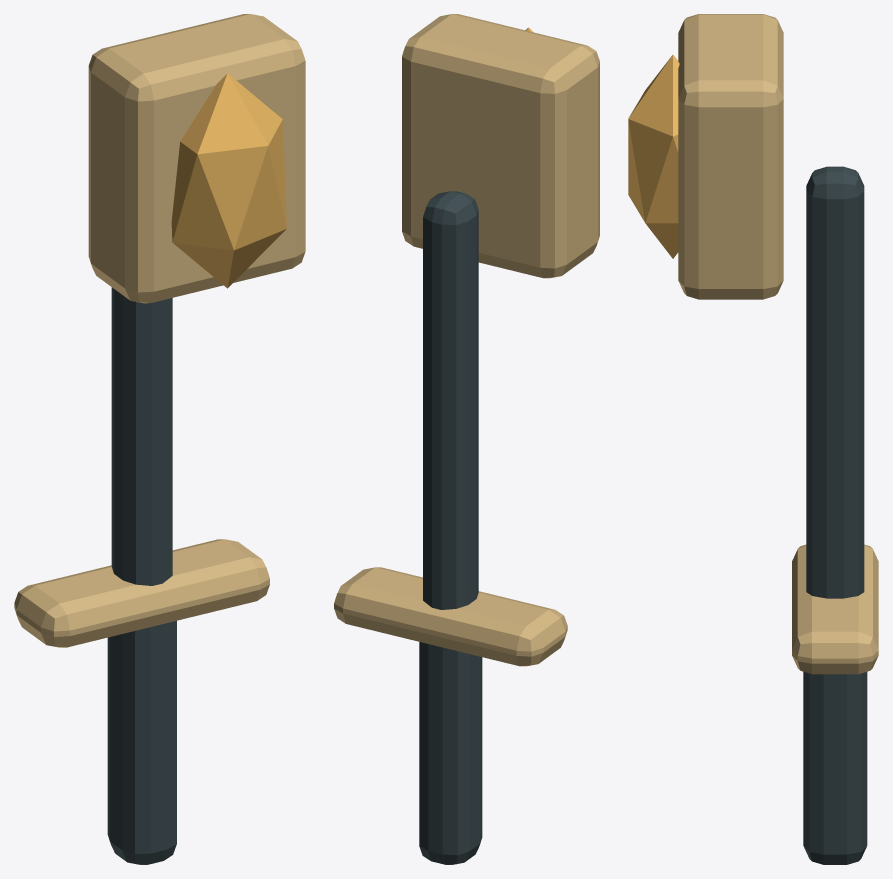
The model's file is arm_mercy_weapon.glb.
The picture shows the model from 3 angles, left to right: view 1: azimuth 30°, elevation 25°; view 2: azimuth 150°, elevation 25°; view 3: azimuth 270°, elevation 25°; orthographic projection. The views are drawn at different scales.
Visible parts, largest first — view 1: arm_mercy_weapon; view 2: arm_mercy_weapon; view 3: arm_mercy_weapon.
Part boxes in pixels (left/top/right/bottom): arm_mercy_weapon: left=14, top=14, right=305, bottom=864; arm_mercy_weapon: left=334, top=14, right=599, bottom=864; arm_mercy_weapon: left=628, top=14, right=878, bottom=864.
Size of the model in its own units: 0.43 by 1.55 by 0.4324.
